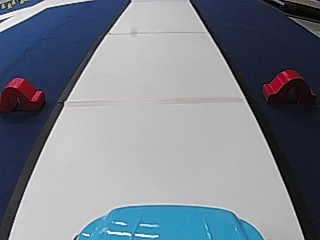Tracktor: (262, 66, 317, 106), (0, 77, 48, 114)
